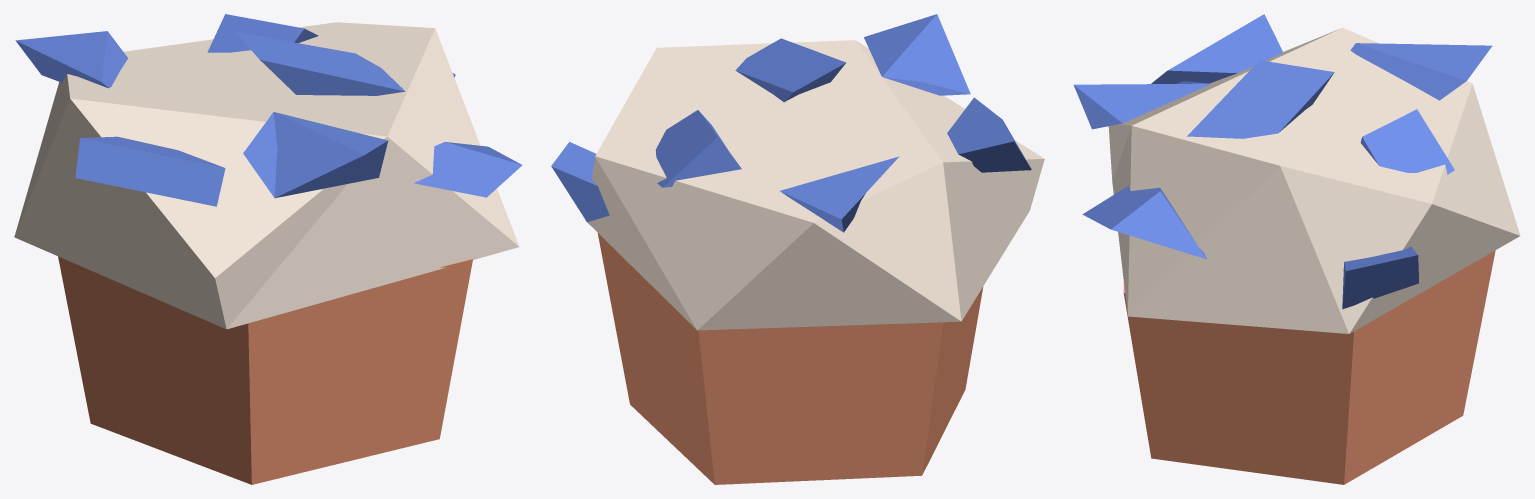
Rendered from MuffinRare.fbx.
3 renders of one model, left to right at view 1: azimuth 30°, elevation 25°; view 2: azimuth 150°, elevation 25°; view 3: azimuth 270°, elevation 25°, orthographic. The views are drawn at different scales.
Parts seen in each view (by area): view 1: Muffin; view 2: Muffin; view 3: Muffin.
Boxes of the visible parts, bbox=[...] form: Muffin: bbox=[14, 14, 522, 484]; Muffin: bbox=[551, 14, 1044, 484]; Muffin: bbox=[1073, 14, 1520, 484].
Size of the model in its own units: 43.79 by 35.61 by 42.11.
